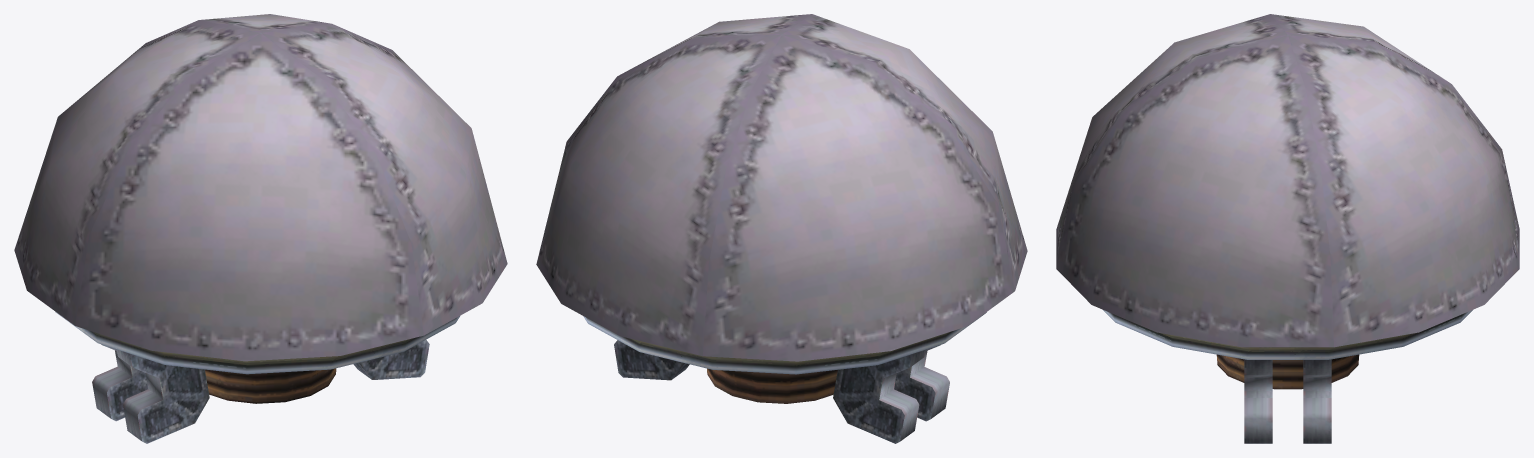
The model's file is ship_component_weapon_s02_l1.fbx.
3 views of the same model, side by side, from view 1: azimuth 30°, elevation 25°; view 2: azimuth 150°, elevation 25°; view 3: azimuth 270°, elevation 25° (orthographic). The views are drawn at different scales.
Parts seen in each view (by area): view 1: mesh_node; view 2: mesh_node; view 3: mesh_node.
Boxes of the visible parts, left/top/right/bottom form: mesh_node: left=14, top=14, right=507, bottom=443; mesh_node: left=536, top=14, right=1027, bottom=443; mesh_node: left=1056, top=14, right=1519, bottom=443.
Size of the model in its own units: 2.04 by 1.67 by 2.04.
